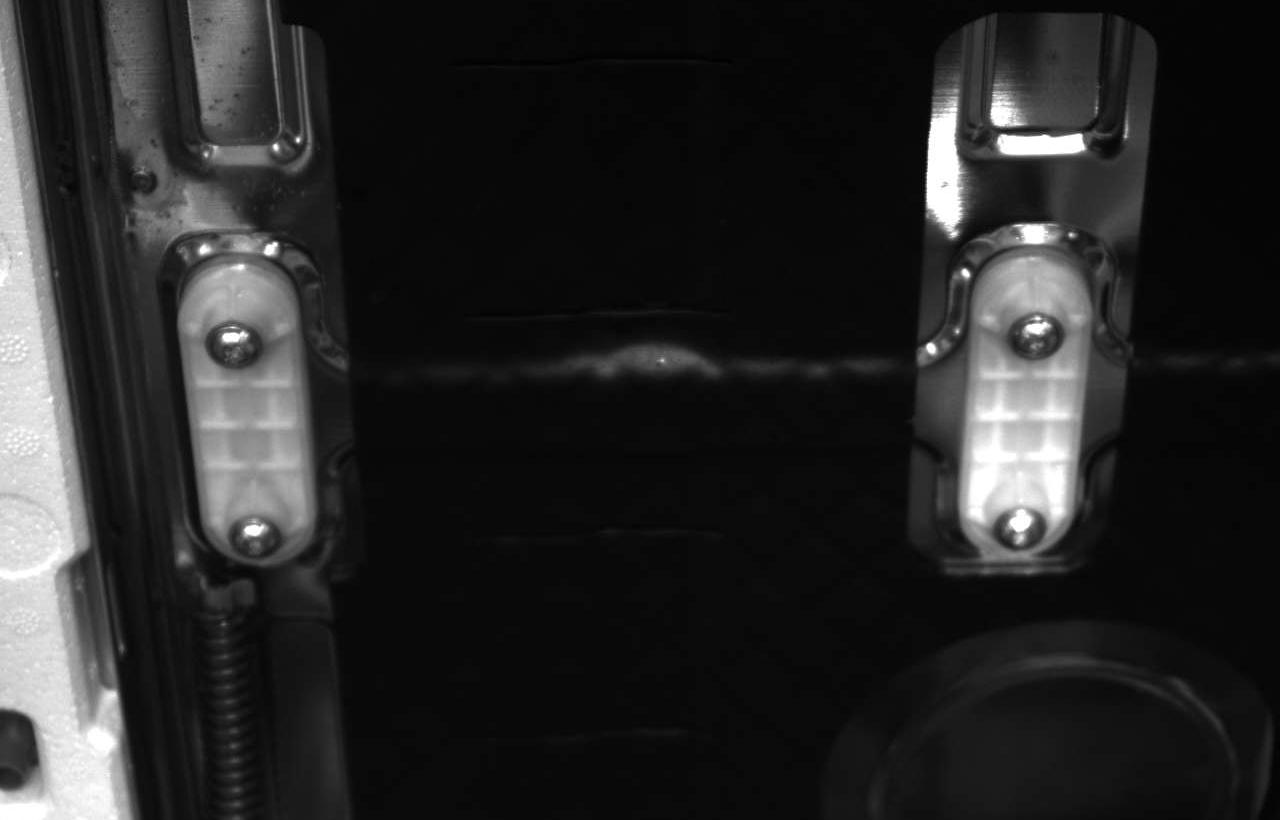vida-ok: (197, 311, 269, 378), (1003, 302, 1070, 369), (987, 491, 1053, 559), (221, 505, 287, 564)
